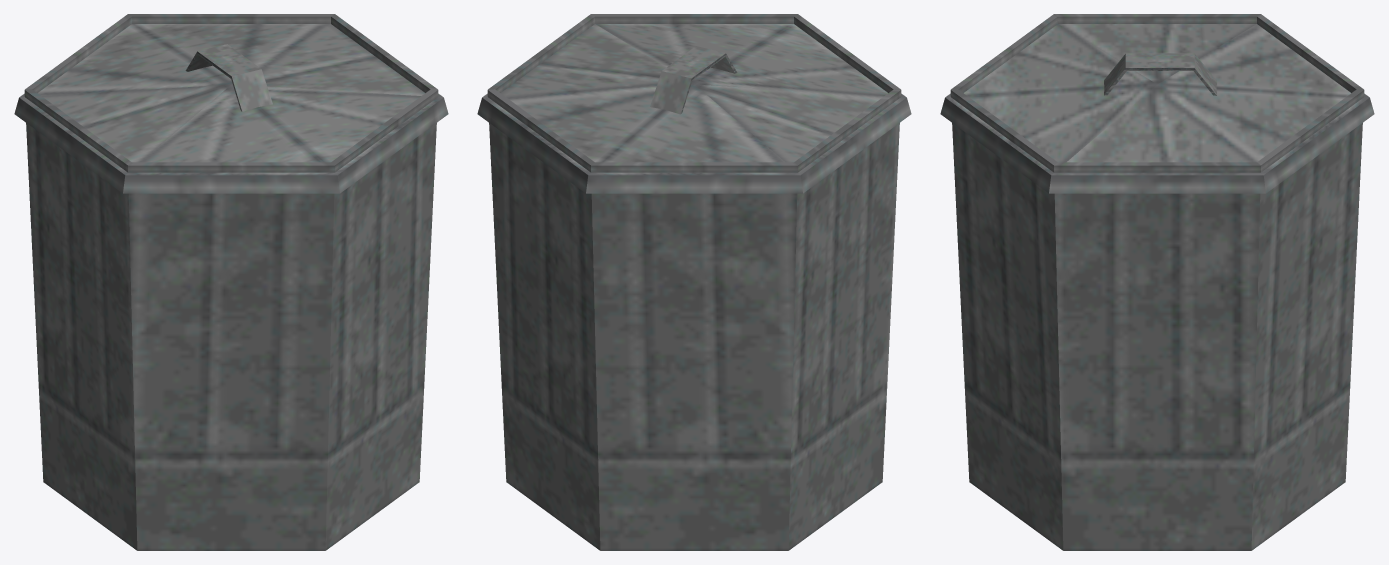
File: Urban_MetaltrashcanClosed_Model.fbx
3 renders of one model, left to right at view 1: azimuth 30°, elevation 25°; view 2: azimuth 150°, elevation 25°; view 3: azimuth 270°, elevation 25°, orthographic.
Parts seen in each view (by area): view 1: Urban_MetaltrashcanClosed_Mesh; view 2: Urban_MetaltrashcanClosed_Mesh; view 3: Urban_MetaltrashcanClosed_Mesh.
Part boxes in pixels (left/top/right/bottom): Urban_MetaltrashcanClosed_Mesh: left=14, top=14, right=448, bottom=550; Urban_MetaltrashcanClosed_Mesh: left=477, top=14, right=911, bottom=550; Urban_MetaltrashcanClosed_Mesh: left=940, top=14, right=1374, bottom=550.
Size of the model in its own units: 0.7618 by 0.9412 by 0.8797.
